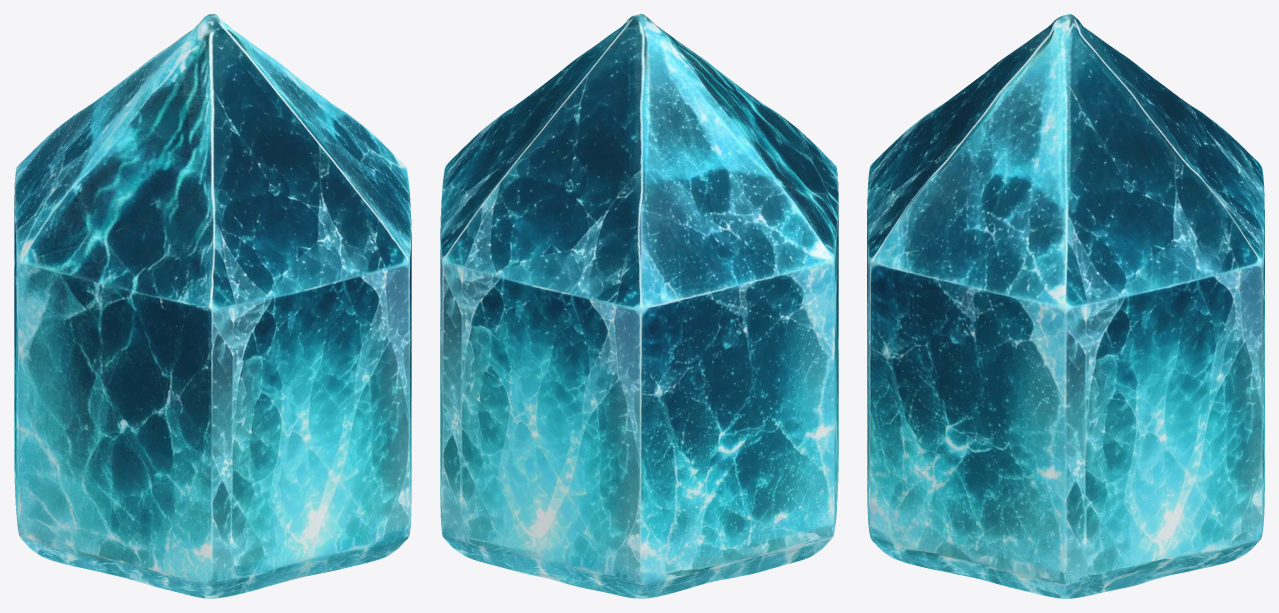
The model's file is crystal-pyramid-blue.glb.
The picture shows the model from 3 angles, left to right: view 1: azimuth 30°, elevation 25°; view 2: azimuth 150°, elevation 25°; view 3: azimuth 270°, elevation 25°; orthographic projection.
Bounding box in the file's own units: 1.54 × 1.9 × 1.36.
Materials: 1 (1 with a texture image).
